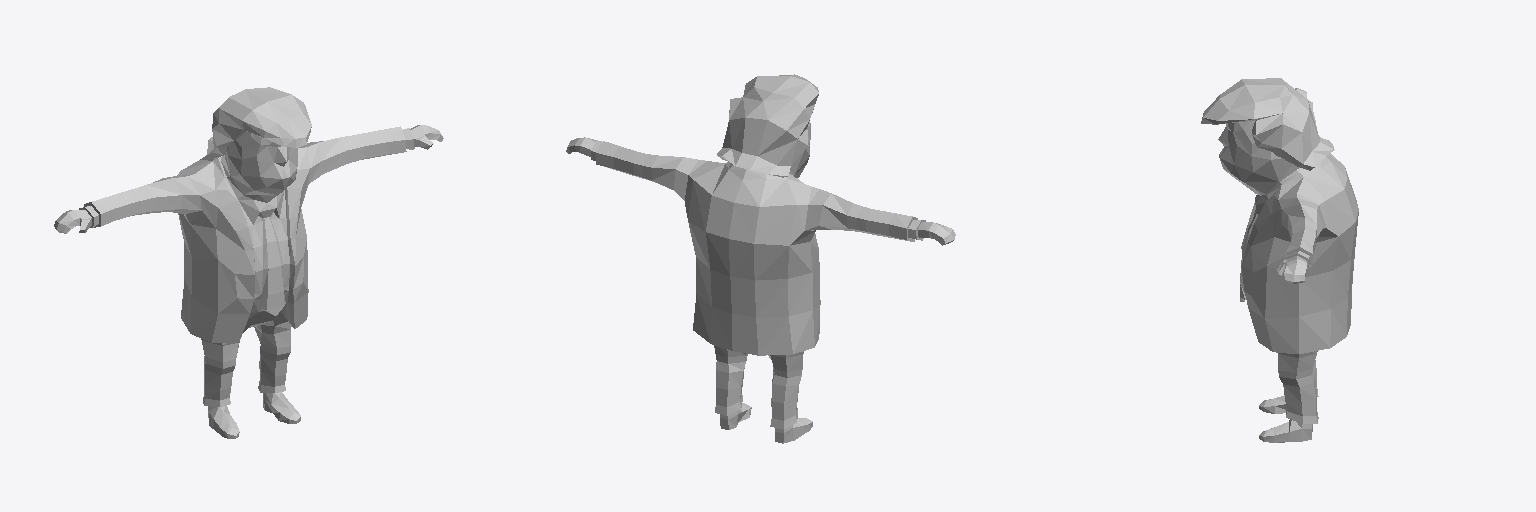
The model's file is trump.obj.
The picture shows the model from 3 angles: view 1: azimuth 30°, elevation 25°; view 2: azimuth 150°, elevation 25°; view 3: azimuth 270°, elevation 25°; orthographic projection.
Parts seen in each view (by area): view 1: trump_lp_model_Mesh; view 2: trump_lp_model_Mesh; view 3: trump_lp_model_Mesh.
Boxes of the visible parts, <box> form: trump_lp_model_Mesh: <box>54,87,443,438</box>; trump_lp_model_Mesh: <box>566,74,955,443</box>; trump_lp_model_Mesh: <box>1201,78,1358,442</box>.
Size of the model in its own units: 2.24 by 1.86 by 0.7928.